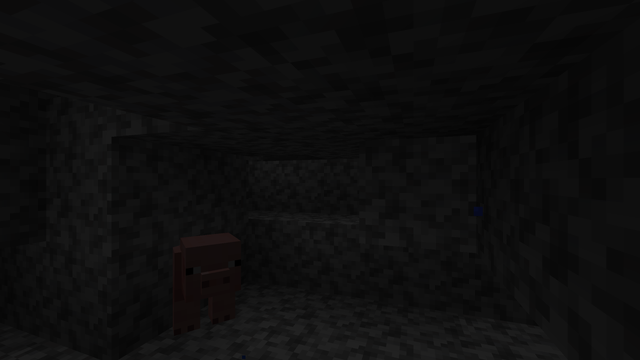cochons: (167, 231, 251, 338)
